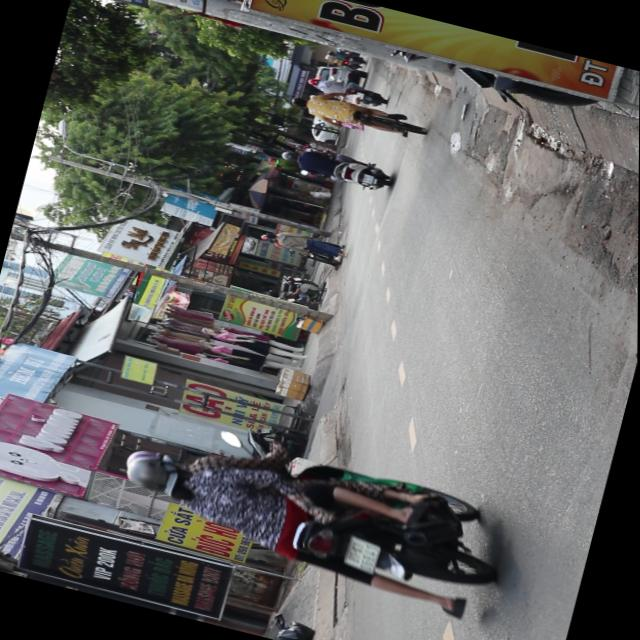helmet: (121, 444, 195, 502)
licenseplate: (101, 405, 520, 626)
nohelmet: (342, 535, 382, 573)
